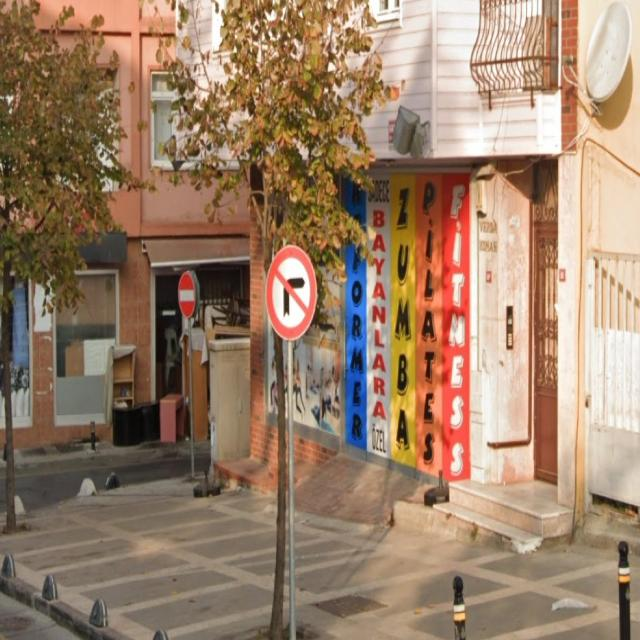girisyok: (178, 272, 195, 321)
sagadonulmez: (266, 245, 318, 342)
